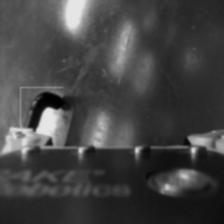Door Handle: (20, 87, 63, 128)
